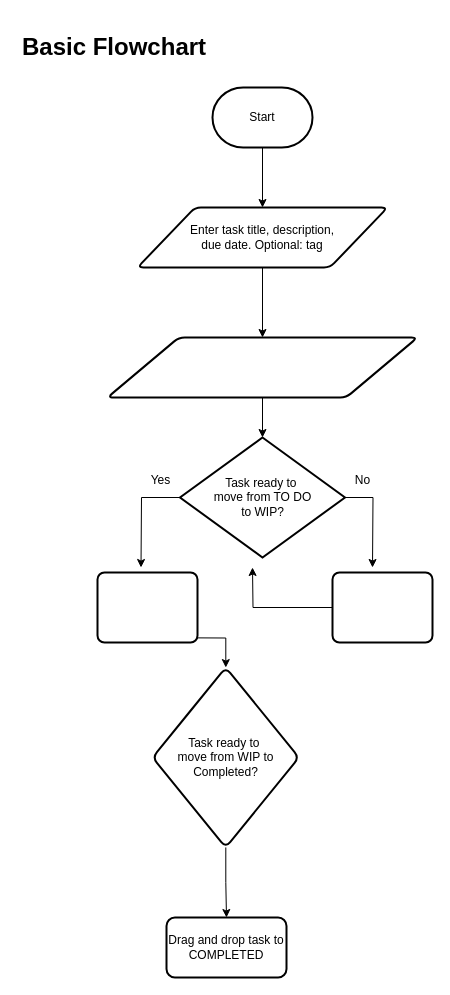
Image size: 450x995. Some labels were removed from this diagram. The box of each missing label's shape, as (x1, y1, x2, y2) in pixels:
Added to task list and TO DO bucket, ordered by due date: (106, 336, 418, 398)
Drag and drop task to WIP: (96, 571, 198, 643)
Remains in TO DO: (331, 571, 433, 643)
